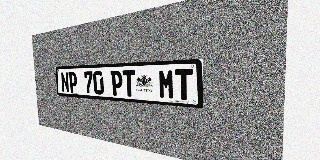0: (93, 71, 104, 95)
7: (83, 71, 94, 94)
M: (158, 69, 175, 99)
N: (60, 72, 69, 93)
P: (110, 70, 123, 96), (68, 72, 78, 93)
T: (175, 69, 193, 101), (122, 70, 136, 97)
